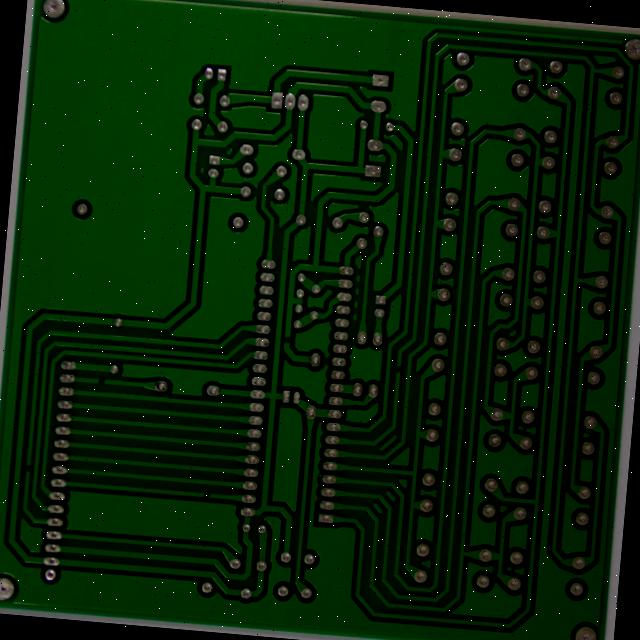open_circuit: (18, 535, 35, 554), (104, 436, 121, 452), (448, 422, 466, 437), (225, 569, 243, 582), (321, 388, 334, 404)
